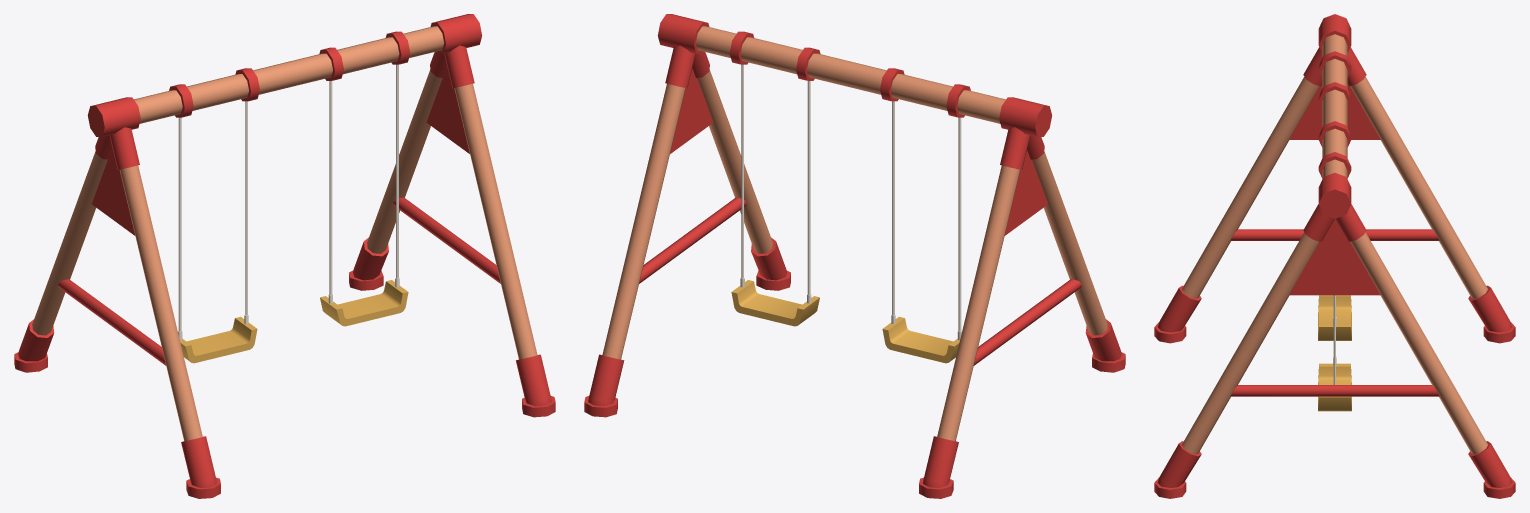
Rendered from Swing_02.fbx.
3 renders of one model, left to right at view 1: azimuth 30°, elevation 25°; view 2: azimuth 150°, elevation 25°; view 3: azimuth 270°, elevation 25°, orthographic. The views are drawn at different scales.
Visible parts, largest first — view 1: Swing_02; view 2: Swing_02; view 3: Swing_02.
Boxes of the visible parts, x1,y1,x2,y2 form: Swing_02: (14, 14, 555, 498); Swing_02: (584, 14, 1125, 498); Swing_02: (1154, 14, 1515, 498).
Size of the model in its own units: 2.88 by 2.39 by 2.5.
